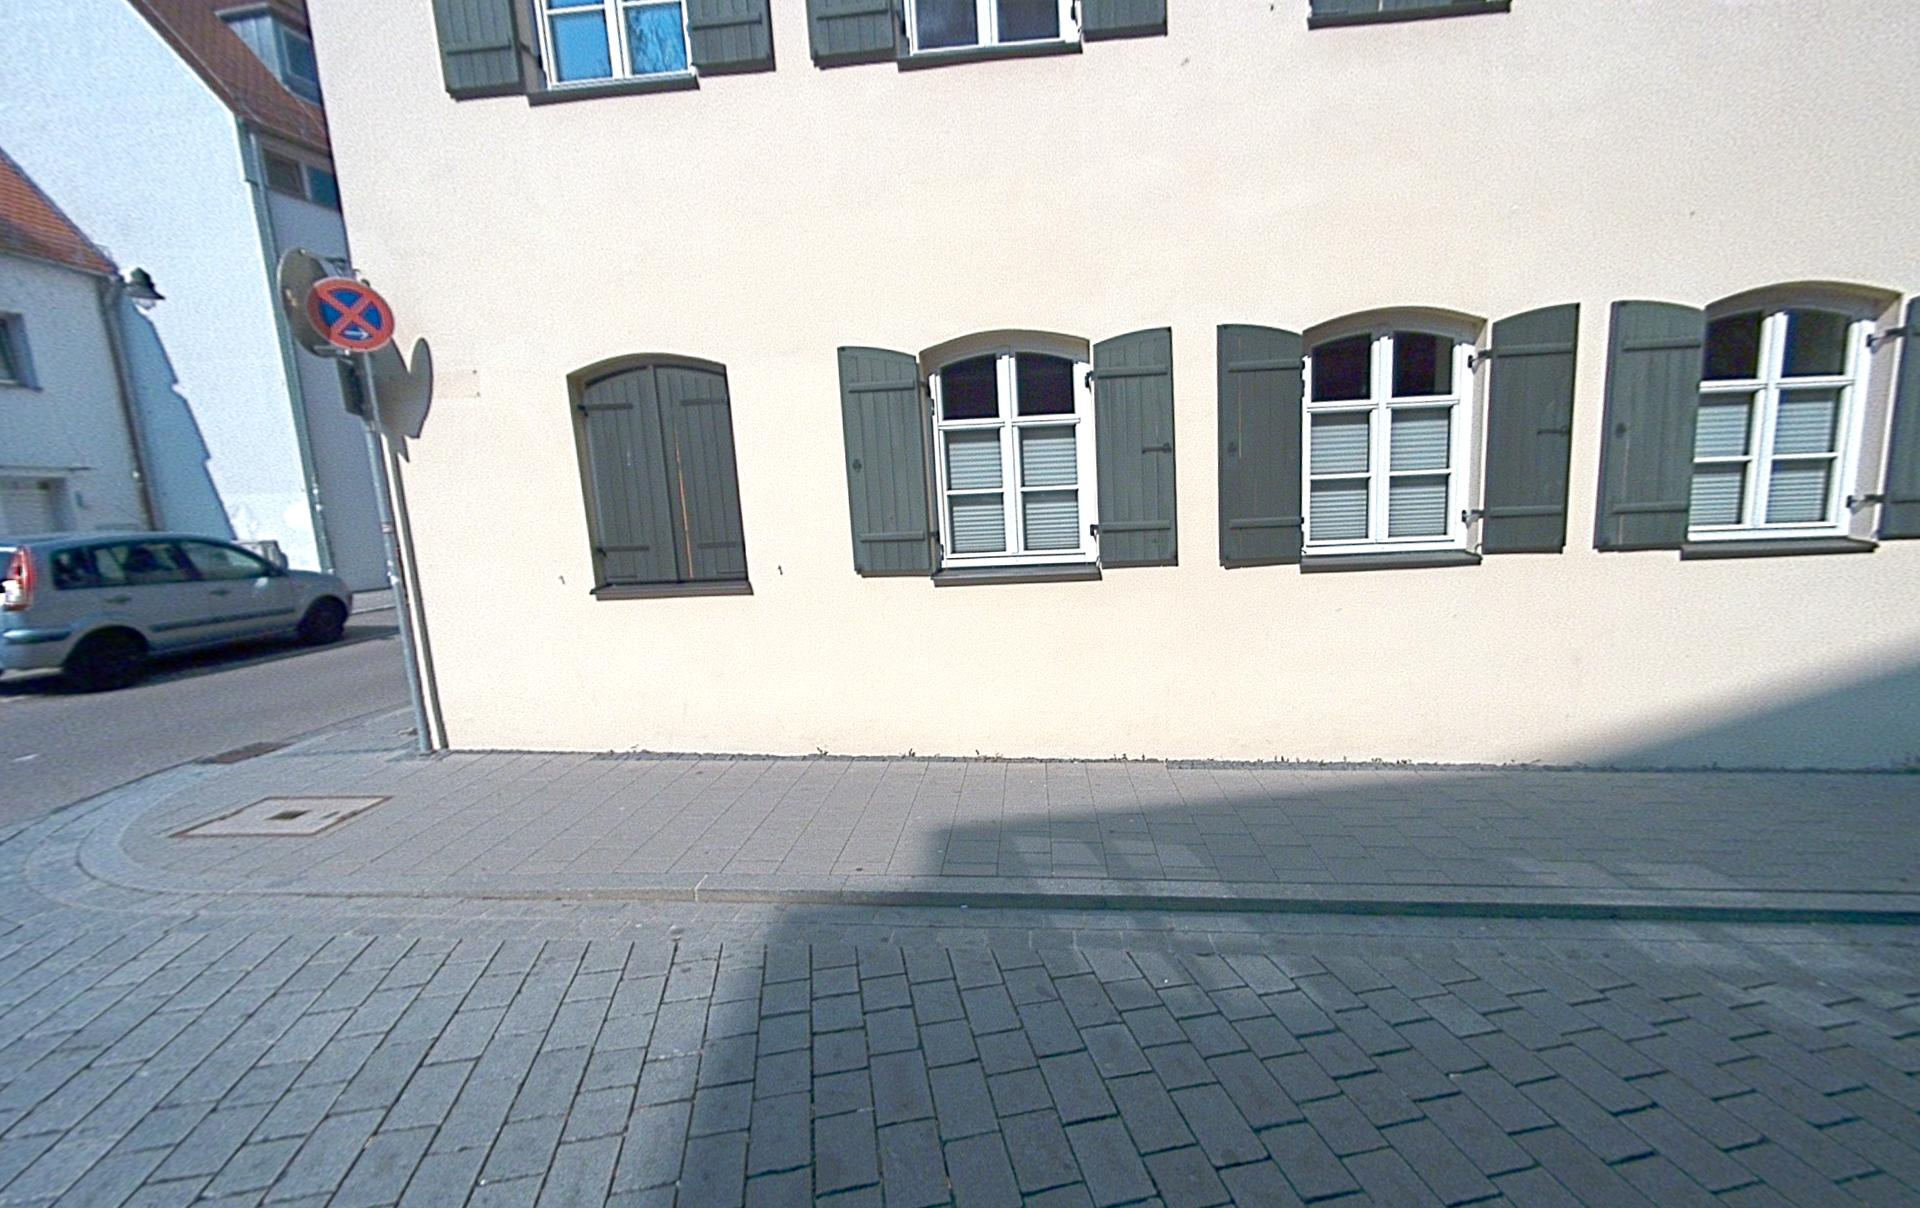car: (0, 531, 353, 692)
traffic sign: (305, 275, 395, 353)
